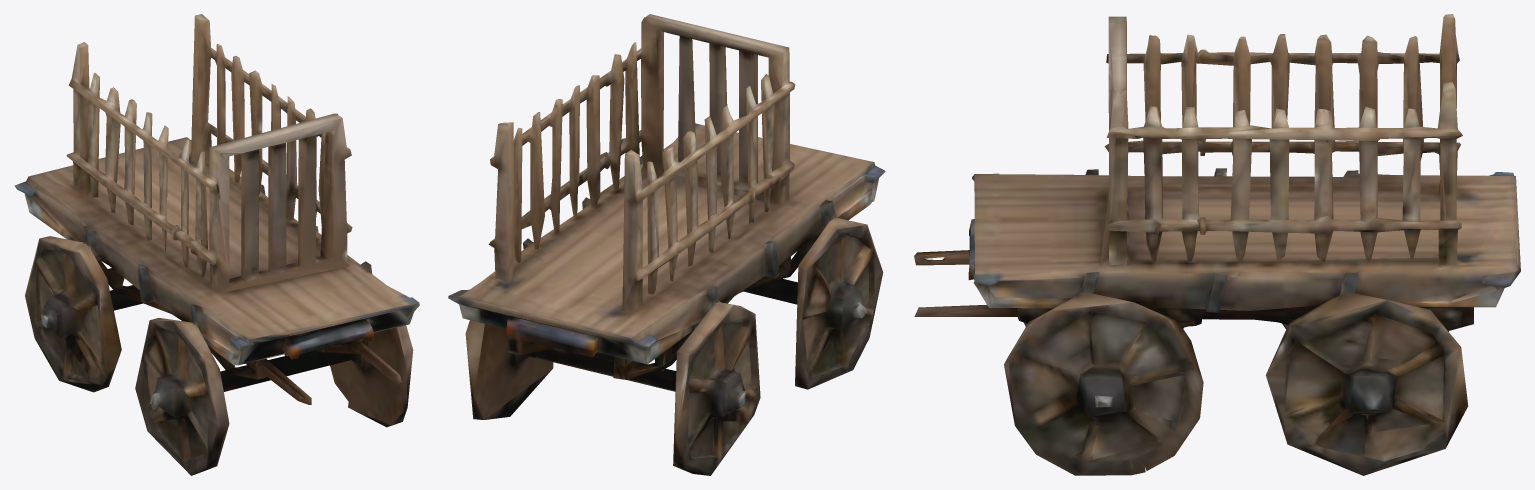
Rendered from chair.glb.
3 views of the same model, side by side, from view 1: azimuth 30°, elevation 25°; view 2: azimuth 150°, elevation 25°; view 3: azimuth 270°, elevation 25° (orthographic). The views are drawn at different scales.
Parts seen in each view (by area): view 1: model; view 2: model; view 3: model.
Boxes of the visible parts, <box> form: model: <box>14,14,419,475</box>; model: <box>448,14,885,475</box>; model: <box>914,14,1520,475</box>.
Size of the model in its own units: 1.02 by 1.19 by 1.76.
1 material, 1 textured.
